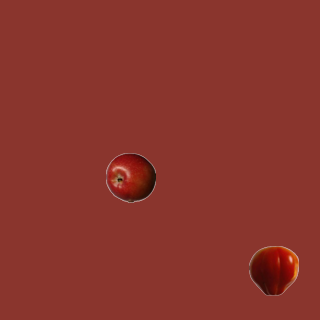Apple Braeburn: (105, 152, 155, 202)
Tomato 1: (248, 245, 298, 295)
